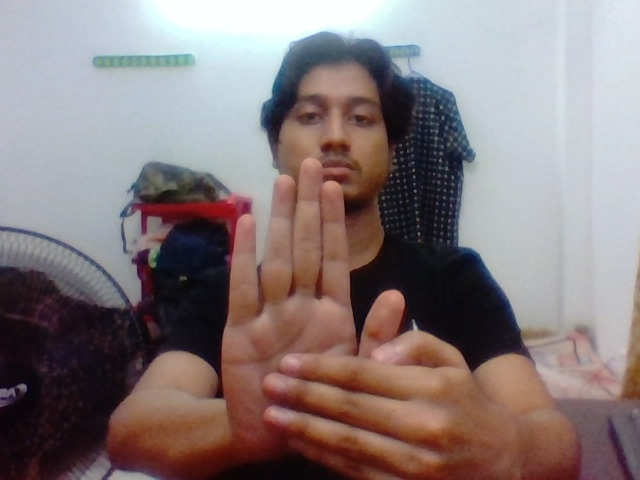H: (170, 151, 481, 473)
